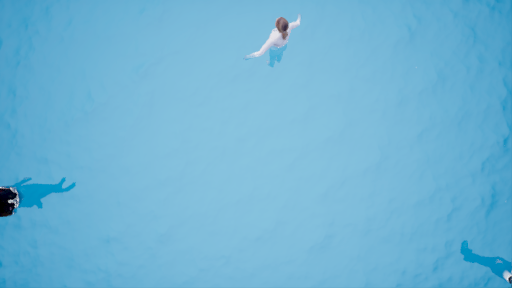person: (243, 13, 301, 71)
